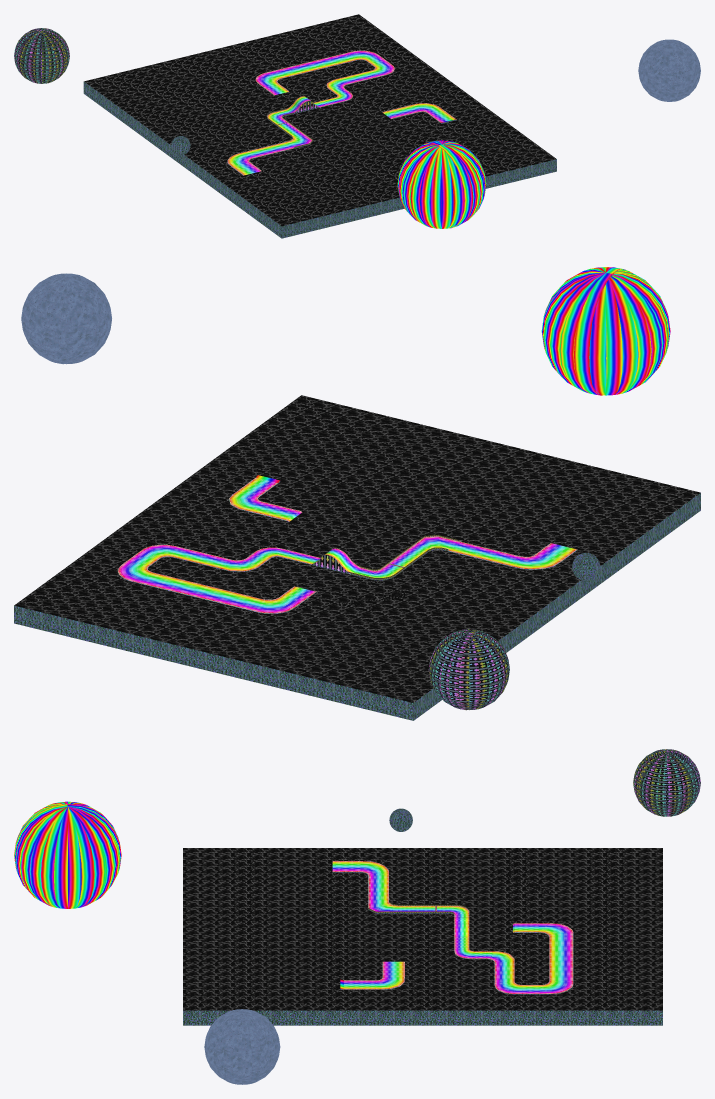
3 renders of one model, top to bottom at view 1: azimuth 30°, elevation 25°; view 2: azimuth 150°, elevation 25°; view 3: azimuth 270°, elevation 25°, orthographic. The views are drawn at different scales.
Parts seen in each view (by area): view 1: model_Main_River.001, model_Main_Trick.001, model_Main_Wall.001, model_Main-Rain.001, model_Main_Death.001, model_Main_Arrow.001; view 2: model_Main_River.001, model_Main_Trick.001, model_Main_Wall.001, model_Main-Rain.001, model_Main_Death.001, model_Main_Arrow.001; view 3: model_Main_River.001, model_Main_Trick.001, model_Main_Wall.001, model_Main-Rain.001, model_Main_Death.001, model_Main_Arrow.001.
Part boxes in pixels (box(x1,y1,x2,y2)): model_Main_River.001: box(84, 14, 556, 226); model_Main_Trick.001: box(397, 118, 486, 228); model_Main_Wall.001: box(83, 59, 556, 238); model_Main-Rain.001: box(227, 50, 454, 175); model_Main_Death.001: box(638, 39, 700, 101); model_Main_Arrow.001: box(14, 28, 319, 113); model_Main_River.001: box(14, 395, 700, 702); model_Main_Trick.001: box(256, 267, 670, 482); model_Main_Wall.001: box(14, 481, 700, 720); model_Main-Rain.001: box(118, 477, 577, 613); model_Main_Death.001: box(21, 273, 111, 364); model_Main_Arrow.001: box(312, 555, 509, 710); model_Main_River.001: box(183, 848, 662, 1010); model_Main_Trick.001: box(14, 801, 343, 989); model_Main_Wall.001: box(183, 808, 662, 1025); model_Main-Rain.001: box(332, 861, 573, 993); model_Main_Death.001: box(204, 1009, 280, 1084); model_Main_Arrow.001: box(633, 749, 700, 816).
Size of the model in its own units: 160180 by 30837 by 155997.
12 materials, 12 textured.
